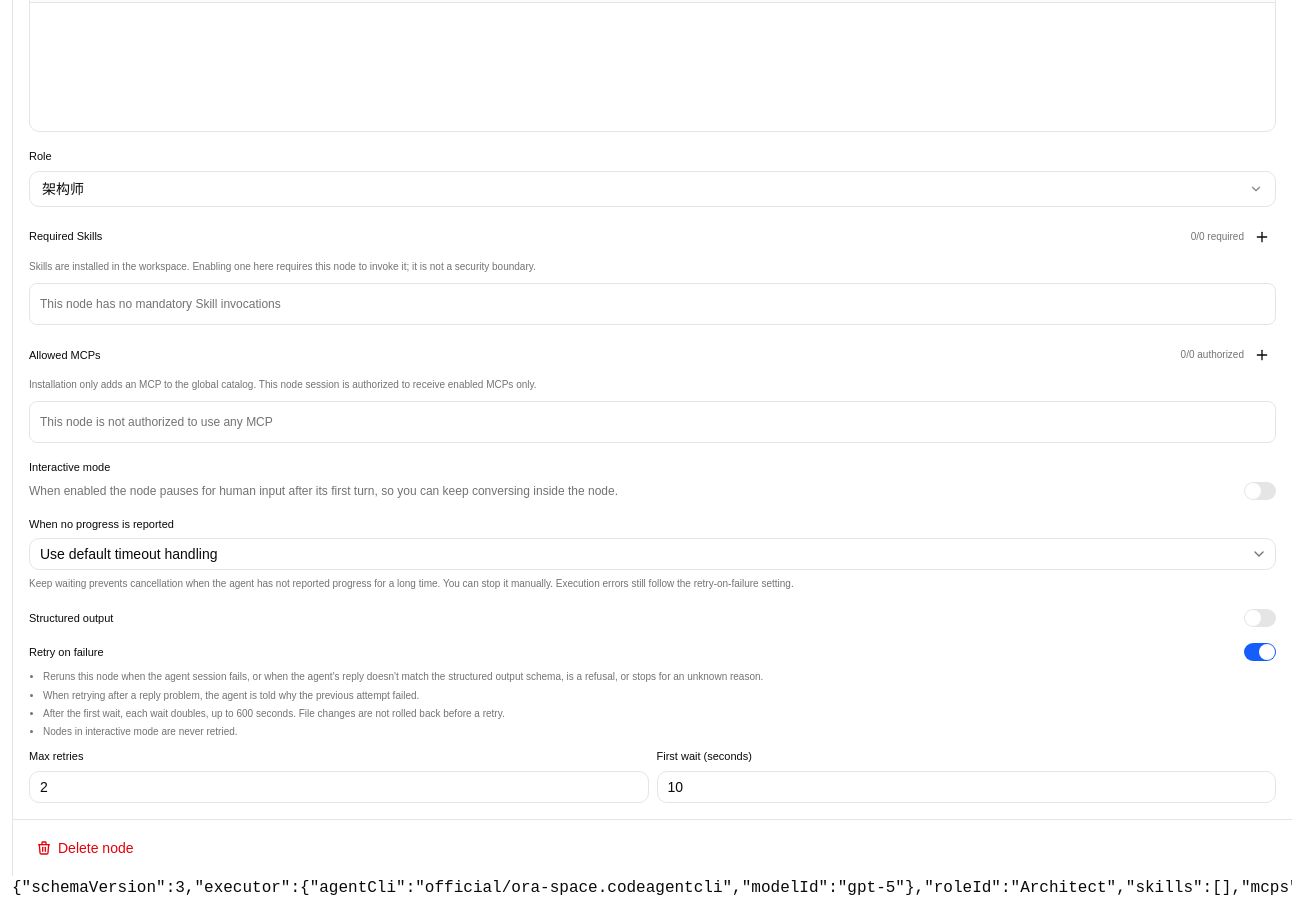
Scenario: Agent retry settings › keeps Max retries = 6 out of the graph and explains why
This screenshot has width=1304, height=900.
(page scrolled)
Replace the text in the number field labelled "Max retries" with "6": x=339, y=787 [29,771,648,803]
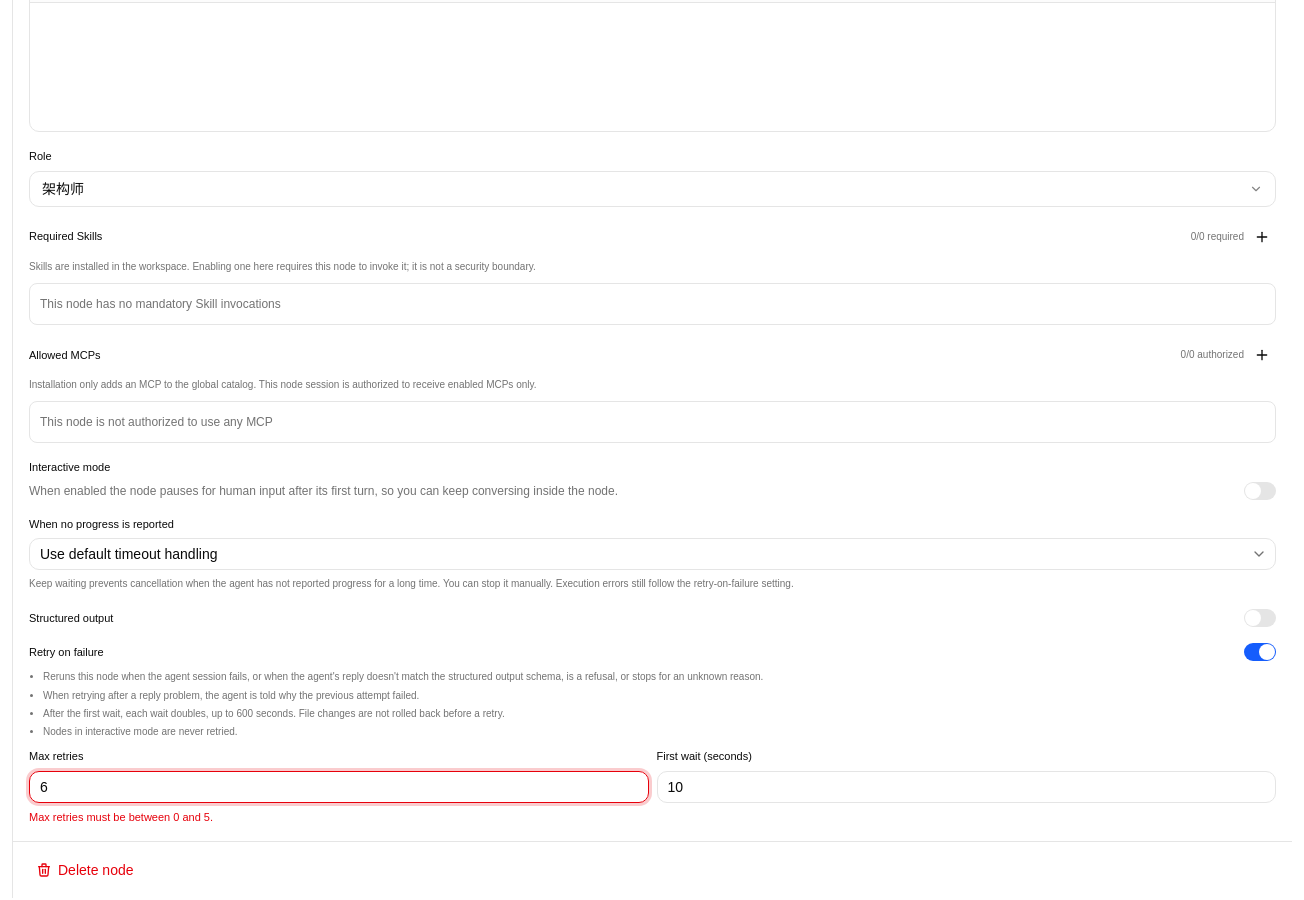
Expected: the message reads "Max retries must be between 0 and 5.", [29,811,213,823]
